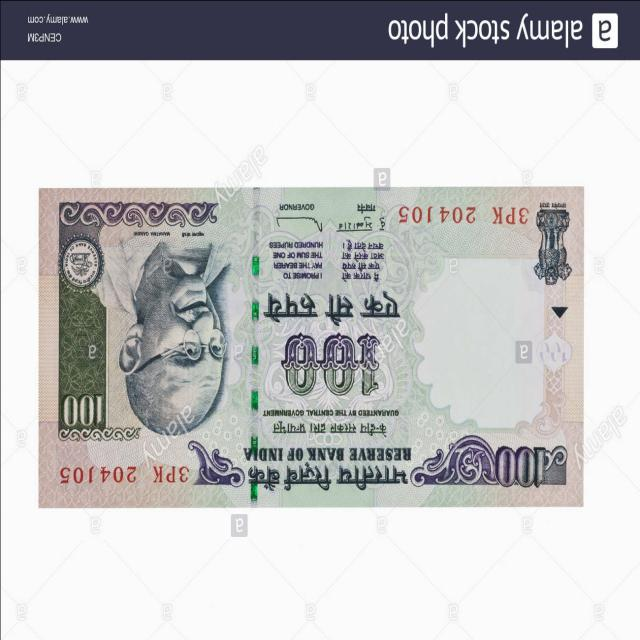100IndianRupees: (43, 191, 586, 508)
